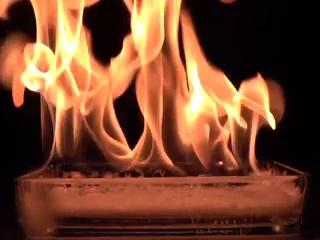Fire: (31, 1, 281, 181)
